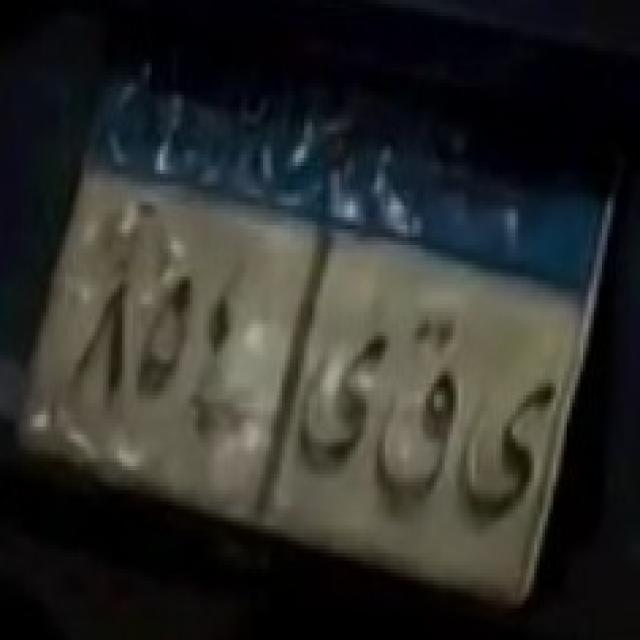4: (184, 245, 257, 456)
5: (140, 247, 200, 419)
8: (70, 198, 156, 422)
Taa: (373, 298, 471, 534)
Yeeh: (459, 333, 556, 545), (298, 290, 390, 498)
